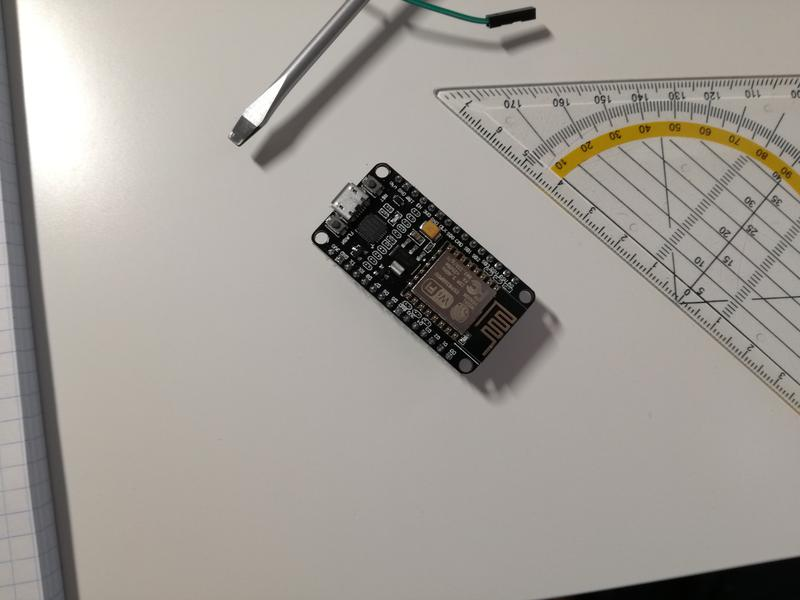ESP8266: (308, 160, 553, 378)
